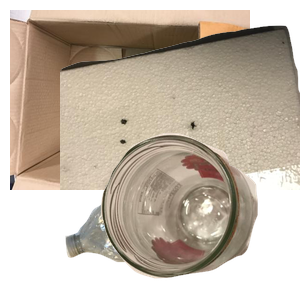cardboard: (10, 10, 250, 190)
glass: (98, 131, 300, 300)
plastic: (63, 170, 278, 300)
trash: (60, 23, 300, 203)
